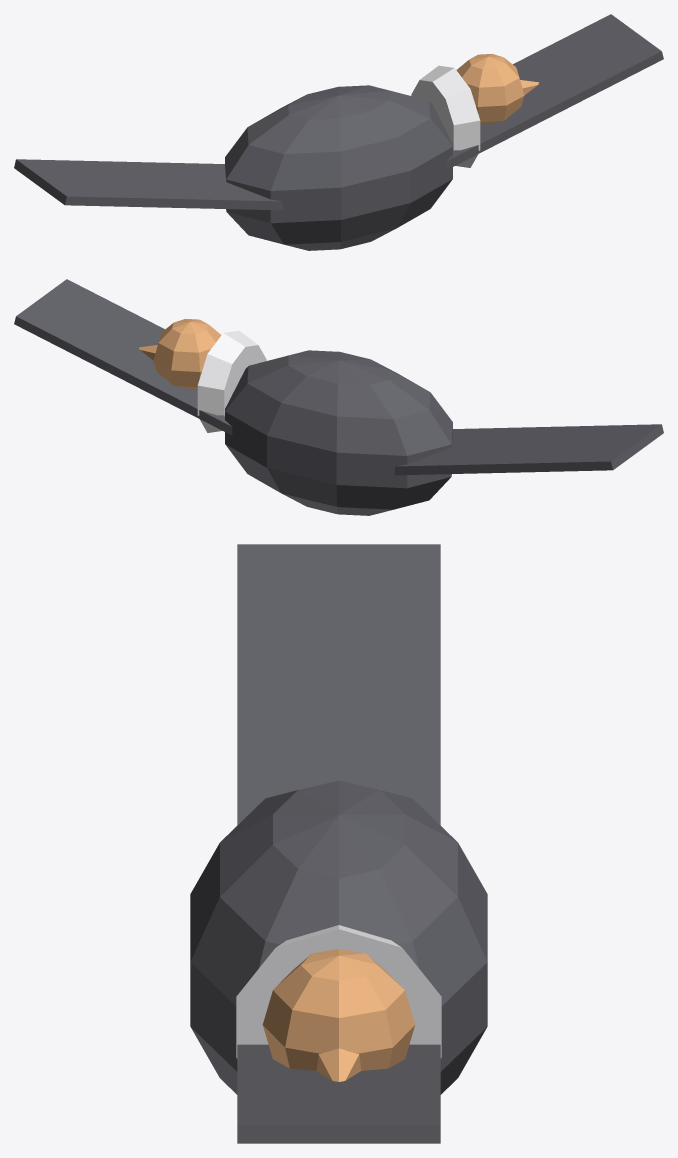
File: ave.glb
The picture shows the model from 3 angles, top to bottom: view 1: azimuth 30°, elevation 25°; view 2: azimuth 150°, elevation 25°; view 3: azimuth 270°, elevation 25°; orthographic projection. The views are drawn at different scales.
Visible parts, largest first — view 1: ave; view 2: ave; view 3: ave.
Part boxes in pixels (x1=…): ave: x1=14, y1=14, x2=663, y2=250; ave: x1=14, y1=279, x2=663, y2=515; ave: x1=190, y1=544, x2=487, y2=1143.
Size of the model in its own units: 1.09 by 0.256 by 0.2337.
